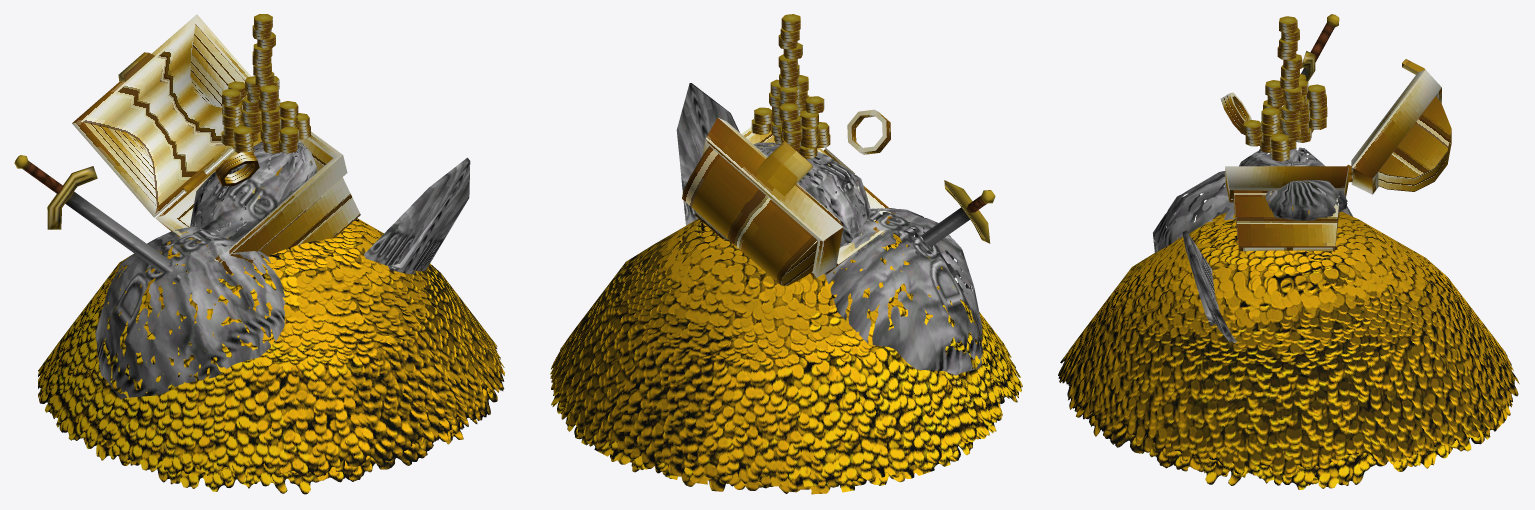
The model's file is INST_SM_TUMBLEA_IDLE.fbx.
3 views of the same model, side by side, from view 1: azimuth 30°, elevation 25°; view 2: azimuth 150°, elevation 25°; view 3: azimuth 270°, elevation 25° (orthographic). The views are drawn at different scales.
Parts seen in each view (by area): view 1: INST_SM_TUMBLEA_IDLE; view 2: INST_SM_TUMBLEA_IDLE; view 3: INST_SM_TUMBLEA_IDLE.
Part boxes in pixels (x1,y1,x2,y2): INST_SM_TUMBLEA_IDLE: (14,14,504,494); INST_SM_TUMBLEA_IDLE: (550,14,1022,494); INST_SM_TUMBLEA_IDLE: (1058,14,1519,489).
Size of the model in its own units: 23355 by 19312 by 21820.
Materials: 7 (7 with a texture image).
